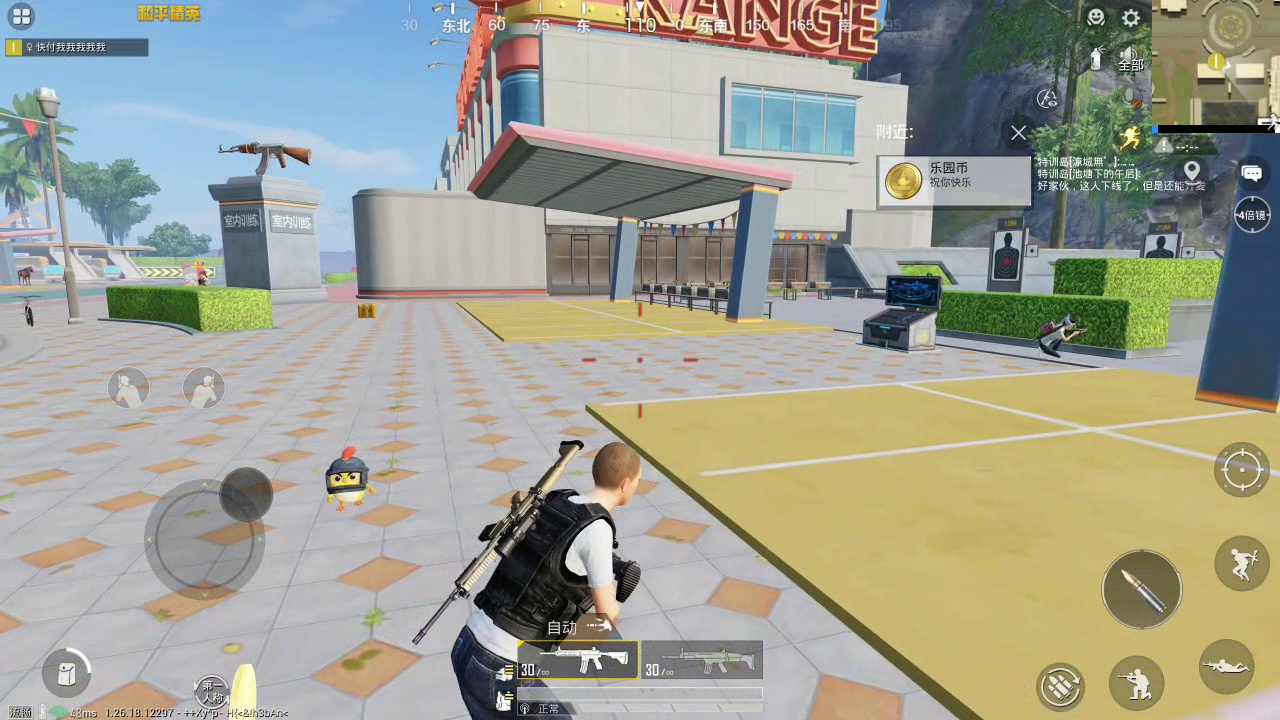enemy: (1036, 315, 1085, 358)
